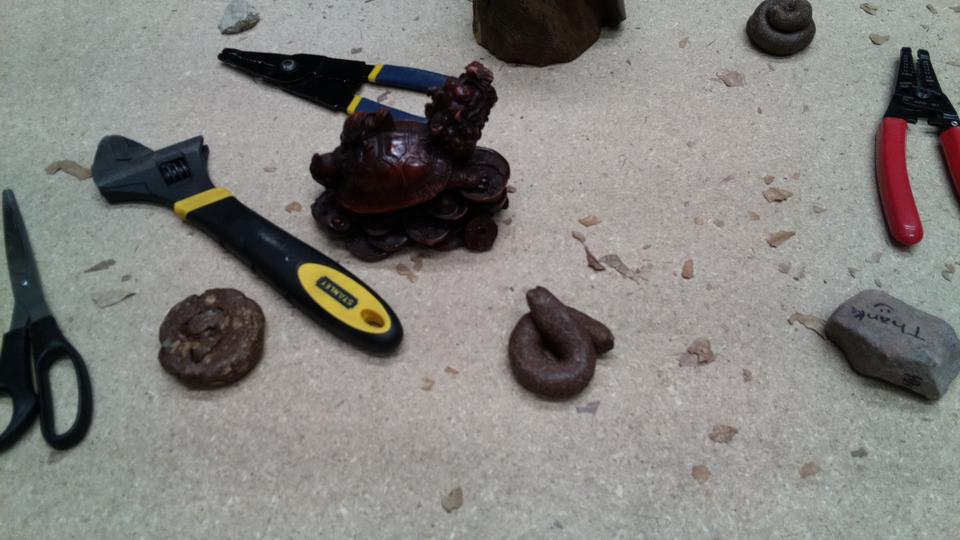poop: (505, 282, 617, 407), (152, 281, 269, 395), (743, 1, 822, 59)
